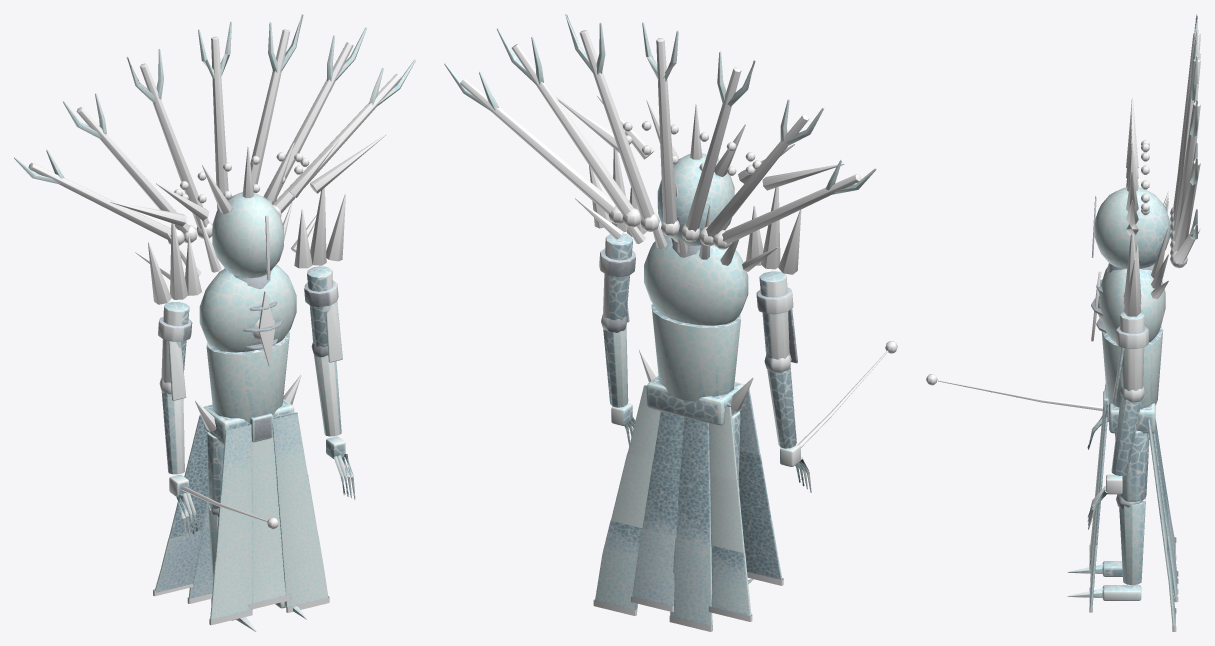
The model's file is Choir.glb.
3 renders of one model, left to right at view 1: azimuth 30°, elevation 25°; view 2: azimuth 150°, elevation 25°; view 3: azimuth 270°, elevation 25°, orthographic. The views are drawn at different scales.
Parts seen in each view (by area): view 1: Choir_spine, Choir_blades, Choir_head, Choir_coatFC3, Choir_coatFA3, Choir_lowerArmL, Choir_lowerArmR, Choir_coatFC2, Choir_coatFA2, Choir_coatBA3, Choir_upperArmL, Choir_coatFA1 (+12 smaller); view 2: Choir_blades, Choir_spine, Choir_head, Choir_coatBB3, Choir_coatBD3, Choir_coatBC3, Choir_upperArmR, Choir_hips, Choir_upperArmL, Choir_coatBA3, Choir_coatBB2, Choir_coatBA2 (+12 smaller); view 3: Choir_spine, Choir_head, Choir_blades, Choir_upperArmL, Choir_lowerLegL, Choir_lowerArmL, Choir_upperLegL, Choir_hips, Choir_handR, Choir_footL, Choir_handL, Choir_footR (+1 smaller).
Boxes of the visible parts, box(x1,y1,x2,y2) form: Choir_spine: box(135, 187, 345, 423); Choir_blades: box(14, 14, 415, 245); Choir_head: box(110, 134, 385, 279); Choir_coatFC3: box(281, 537, 329, 612); Choir_coatFA3: box(209, 553, 252, 625); Choir_lowerArmL: box(314, 301, 342, 436); Choir_lowerArmR: box(161, 341, 186, 474); Choir_coatFC2: box(277, 475, 318, 545); Choir_coatFA2: box(215, 489, 251, 561); Choir_coatBA3: box(153, 530, 202, 596); Choir_upperArmL: box(304, 266, 338, 357); Choir_coatFA1: box(220, 424, 251, 496); Choir_blades: box(444, 14, 876, 249); Choir_spine: box(575, 148, 801, 401); Choir_head: box(555, 95, 844, 245); Choir_coatBB3: box(669, 537, 712, 631); Choir_coatBD3: box(593, 520, 642, 615); Choir_coatBC3: box(631, 529, 675, 611); Choir_upperArmR: box(756, 271, 793, 372); Choir_hips: box(639, 350, 753, 425); Choir_upperArmL: box(599, 233, 635, 332); Choir_coatBA3: box(709, 545, 752, 621); Choir_coatBB2: box(676, 467, 711, 545); Choir_coatBA2: box(709, 474, 744, 552); Choir_spine: box(1091, 191, 1168, 408); Choir_head: box(1091, 98, 1170, 268); Choir_blades: box(1170, 14, 1200, 268); Choir_upperArmL: box(1116, 312, 1148, 402); Choir_lowerLegL: box(1119, 497, 1145, 585); Choir_lowerArmL: box(1111, 347, 1141, 475); Choir_upperLegL: box(1115, 431, 1149, 509); Choir_hips: box(1103, 390, 1155, 433); Choir_handR: box(926, 374, 1102, 449); Choir_footL: box(1067, 585, 1141, 600); Choir_handL: box(1087, 474, 1122, 529); Choir_footR: box(1067, 561, 1122, 576).
Size of the model in its own units: 3.49 by 4.68 by 2.12.
1 material, 1 textured.
